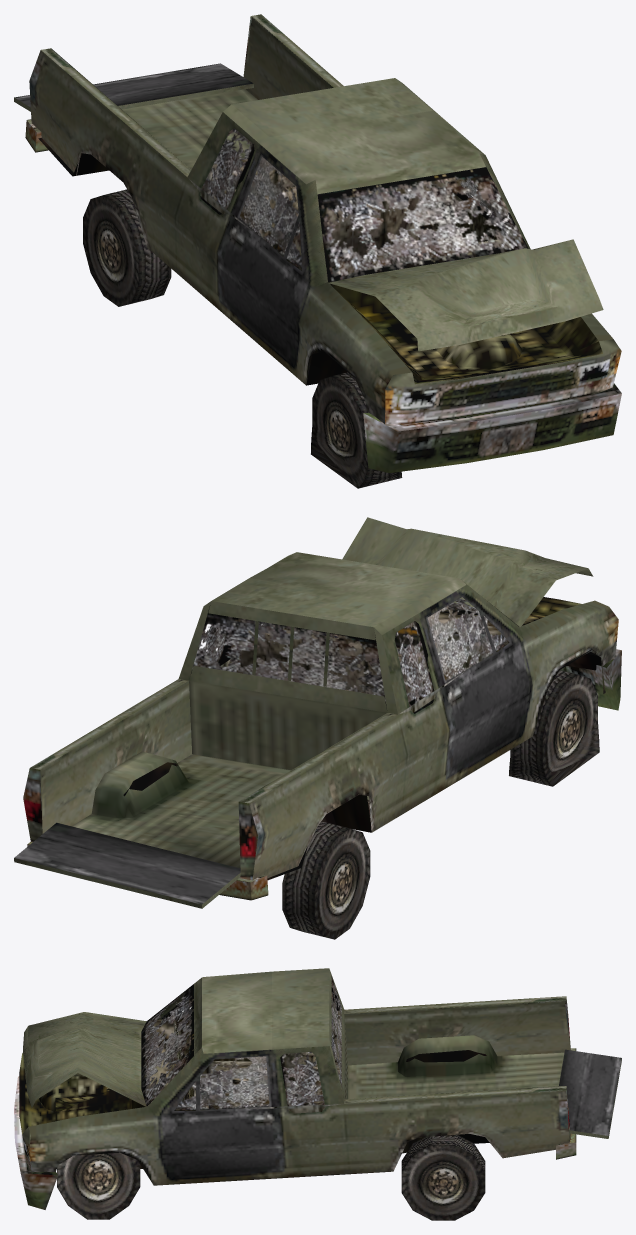
The model's file is ntrk1hsk.glb.
The picture shows the model from 3 angles, top to bottom: view 1: azimuth 30°, elevation 25°; view 2: azimuth 150°, elevation 25°; view 3: azimuth 270°, elevation 25°; orthographic projection. The views are drawn at different scales.
Visible parts, largest first — view 1: _ntrk1hsk; view 2: _ntrk1hsk; view 3: _ntrk1hsk.
Boxes of the visible parts, left/top/right/bottom form: _ntrk1hsk: left=14, top=14, right=621, bottom=488; _ntrk1hsk: left=14, top=517, right=621, bottom=939; _ntrk1hsk: left=14, top=968, right=621, bottom=1220.
Bounding box in the file's own units: 2.25 × 2.1 × 6.34.
3 materials, 3 textured.
